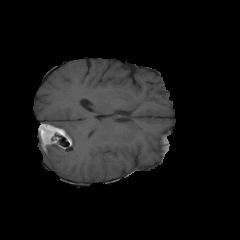glioma: (37, 121, 125, 179)
